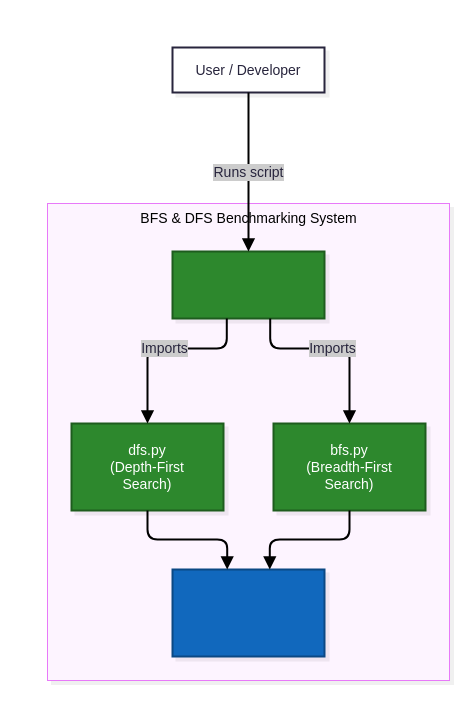
The diagram is 471 pixels wide and 702 high, and some of its shapes have lost their labels. The shapes that lost their labels are listed below. From the top down, each one's centre as x and y in pixels, then its label:
At (250,286): "Profiling Script (timeit metrics)".
At (250,614): "Shared Graph Structure (Adjacency List)".
